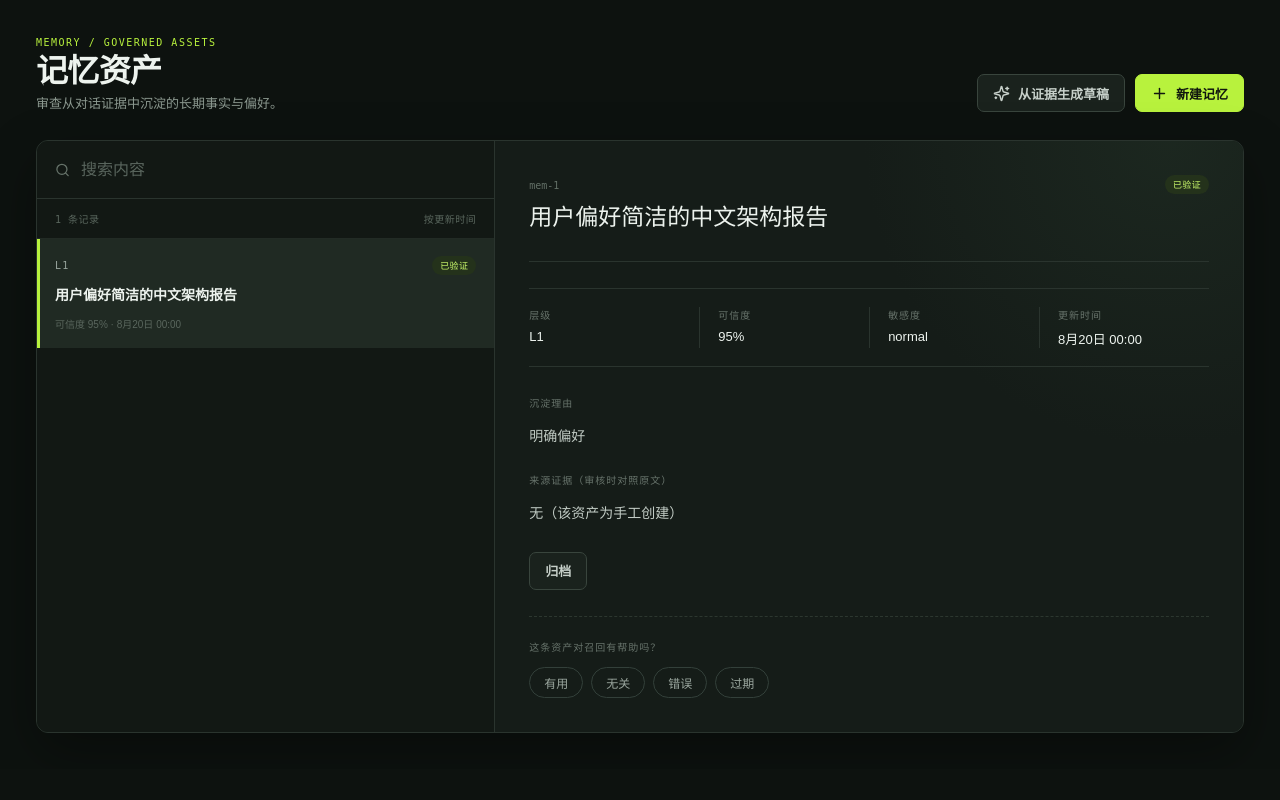
submits explicit feedback for the selected memory without touching asset state
Expected: the text "这条资产对召回有帮助吗？" is shown, x1=529 y1=642 x2=661 y2=652
# 四类反馈都可提交；这里点"错误"
Click the button "错误". click: (680,682)
box: x1=653 y1=666 x2=707 y2=698
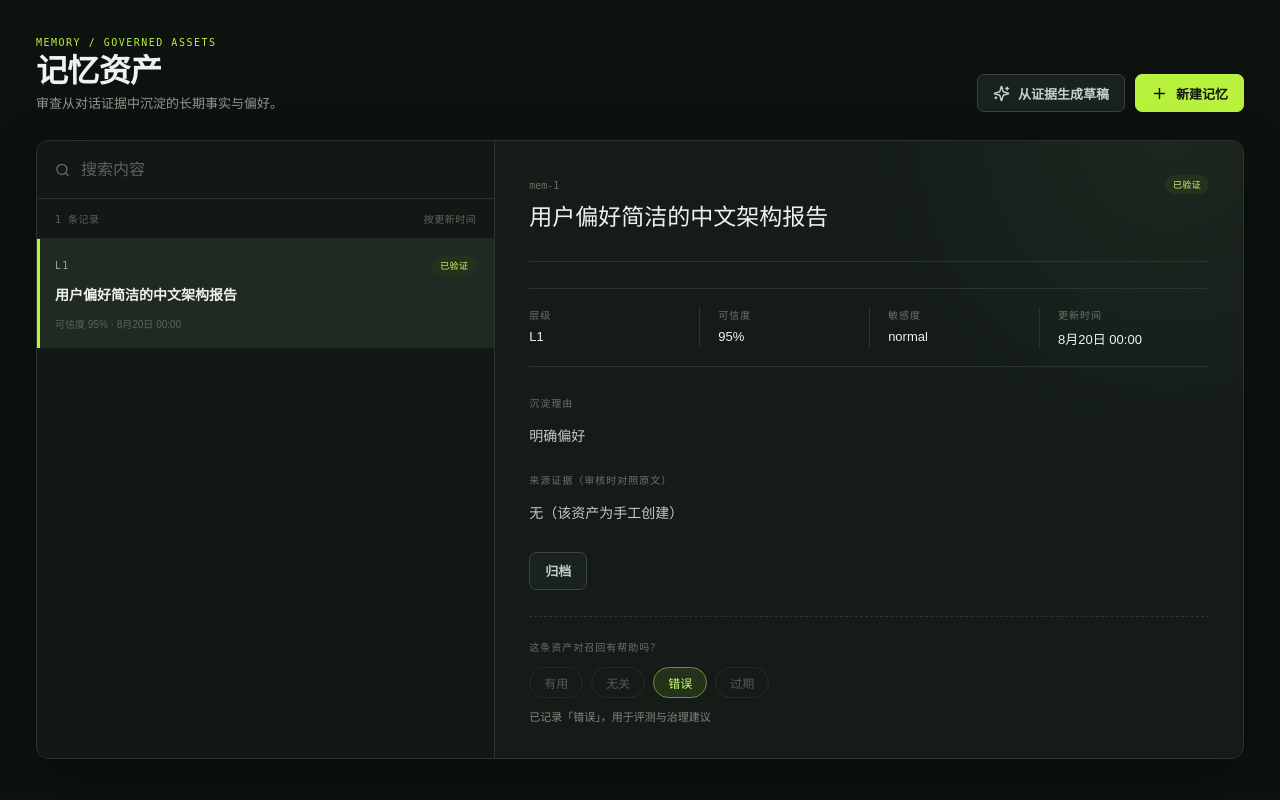
Now the text "已记录「错误」，用于评测与治理建议" is shown, box x1=529 y1=710 x2=711 y2=722
